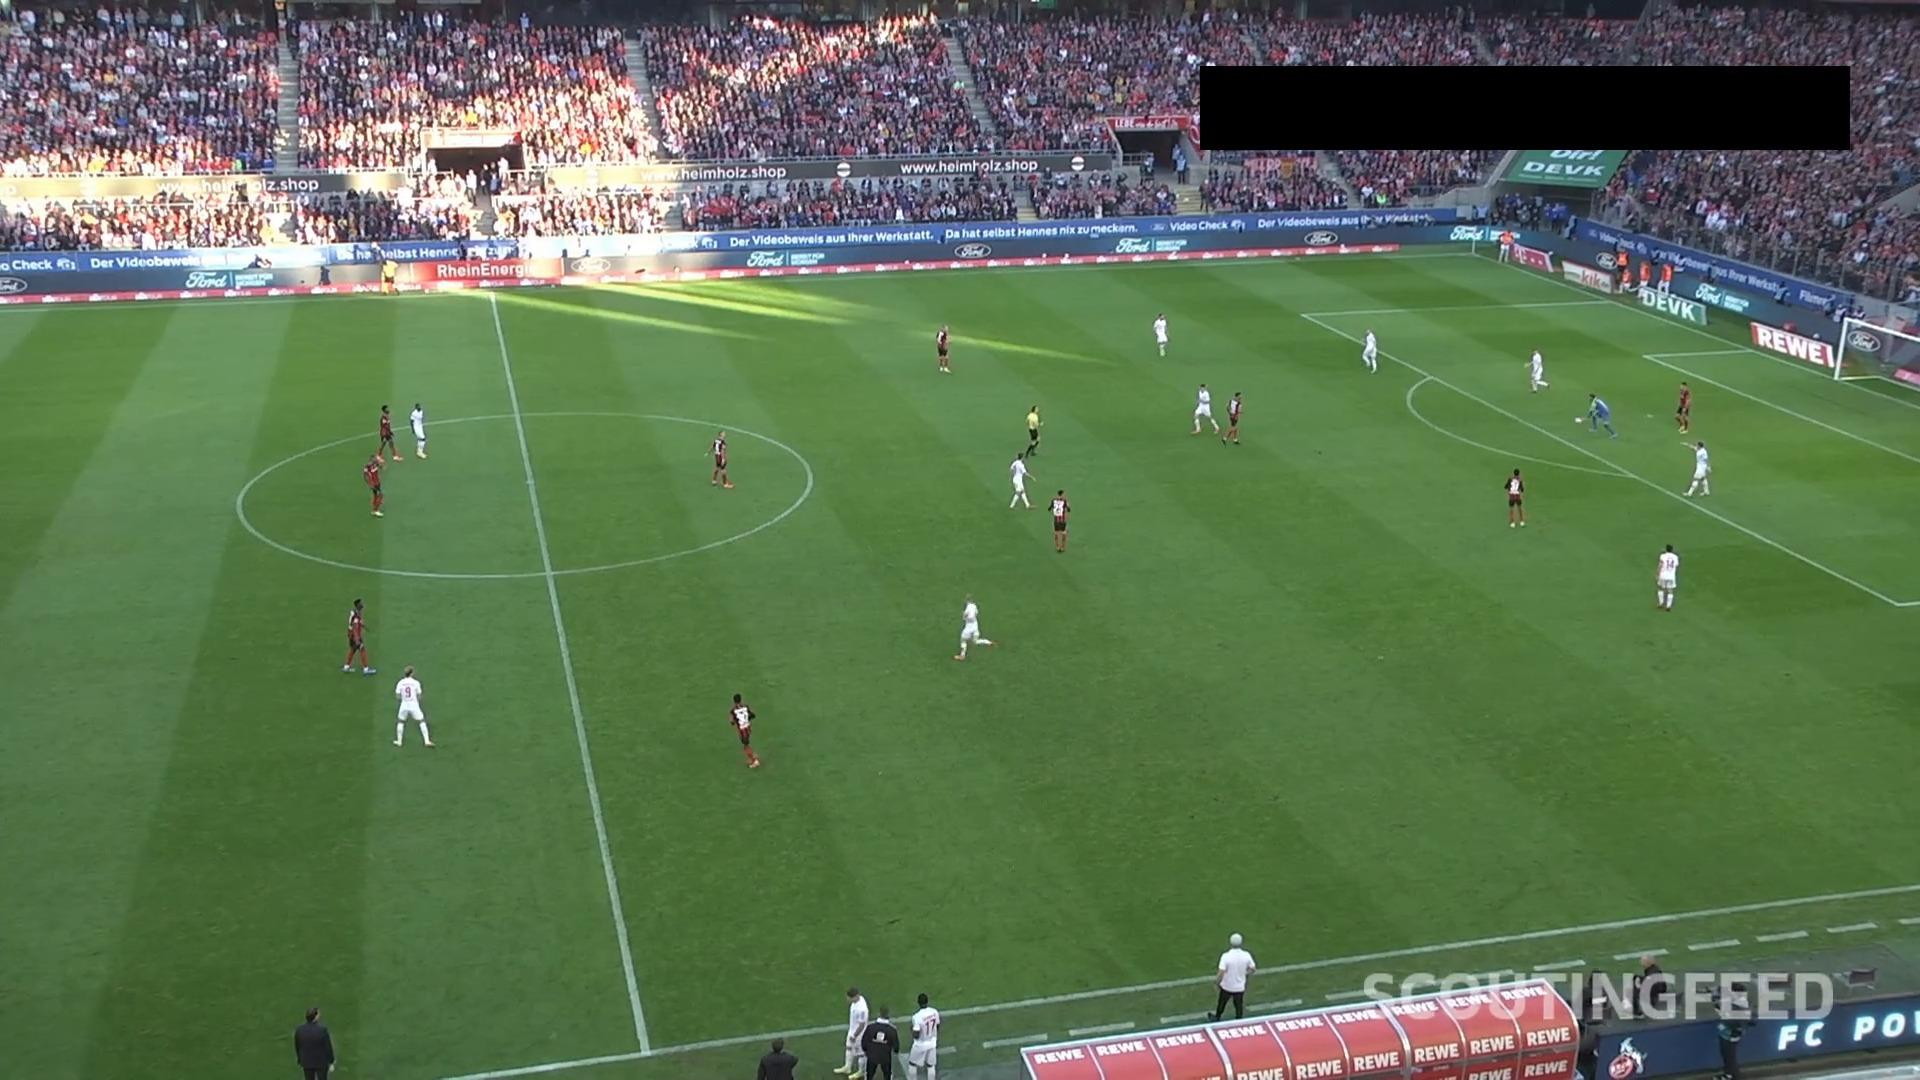ball: (1575, 415, 1584, 425)
